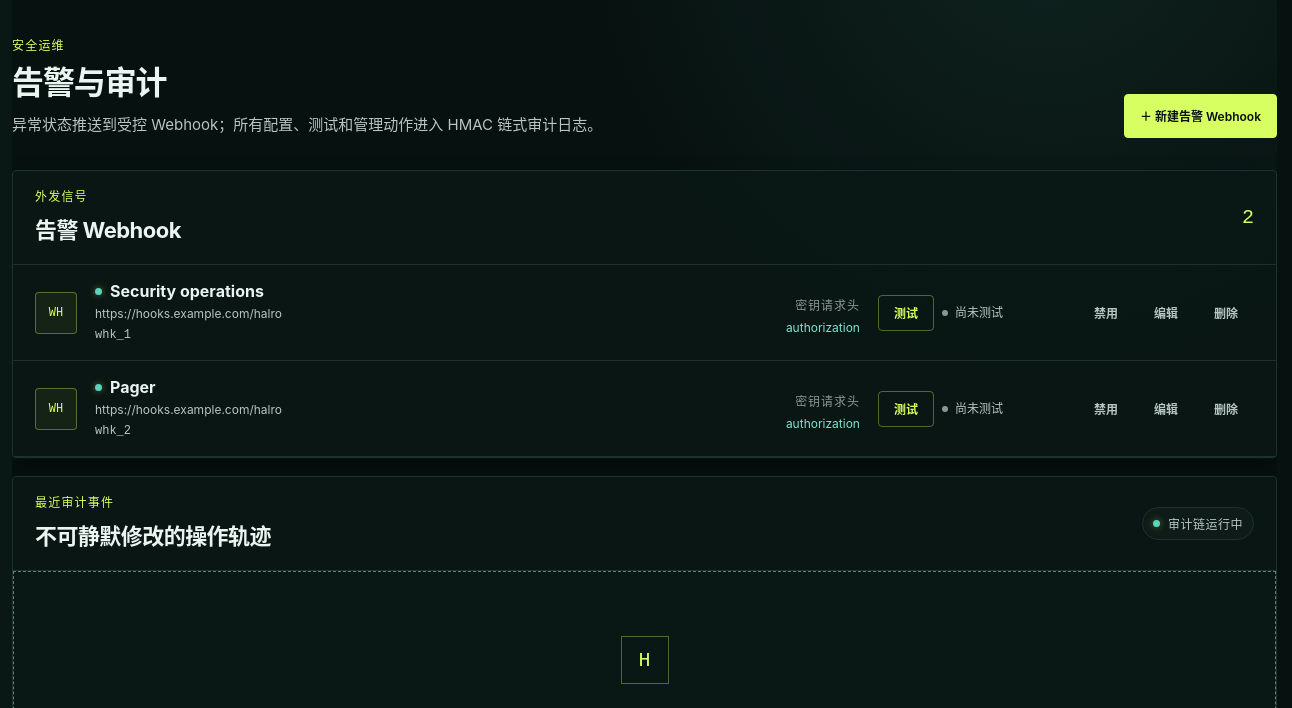
Test case: operations page › keeps a test result attached to the row that produced it
The image size is (1292, 708).
Click the button "测试" in the row of "Security operations": (906, 313) [878, 295, 934, 331]
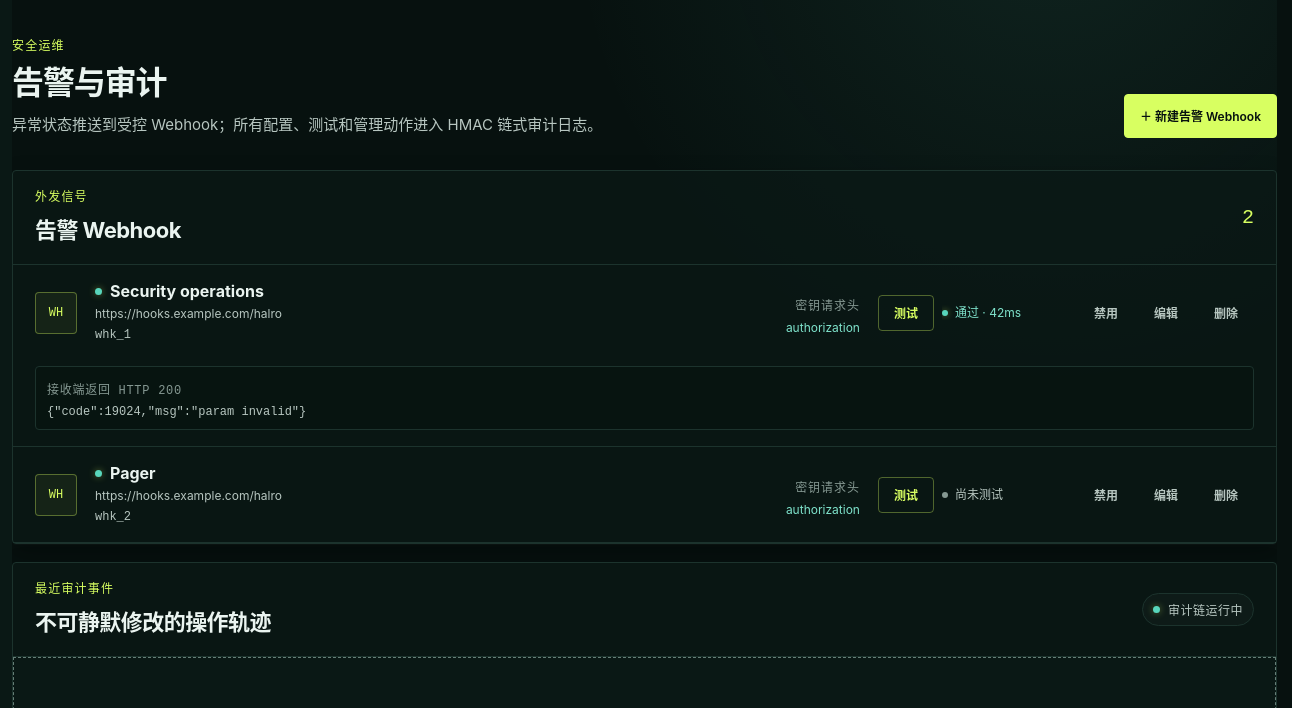
Result: the message "通过 · 42ms" is shown at [942, 305, 1021, 320]
Result: the message "接收端返回 HTTP 200 {\"code\":19024,\"msg\":\"param invalid\"}" is shown at [35, 366, 1254, 430]
Result: the text "接收端返回 HTTP 200" is shown at [47, 384, 182, 398]
